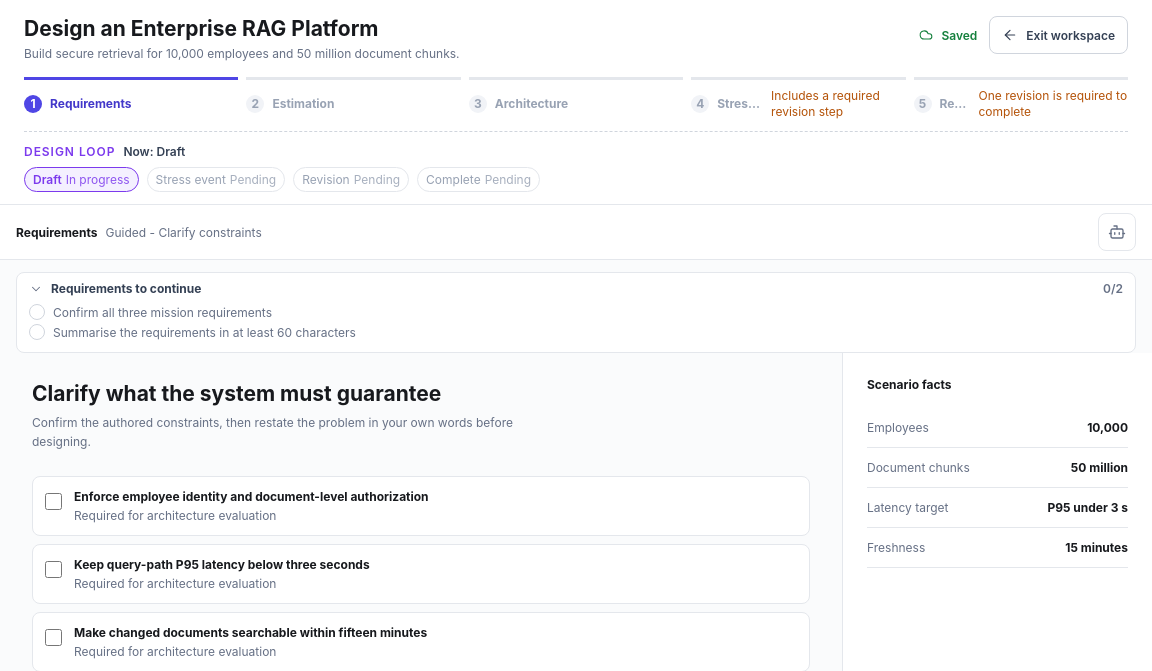
Test: MissionWorkspace gate checklist › collapses and expands via the toggle
Click the button "Requirements to continue 0/2": (126, 289) [17,273,1135,304]
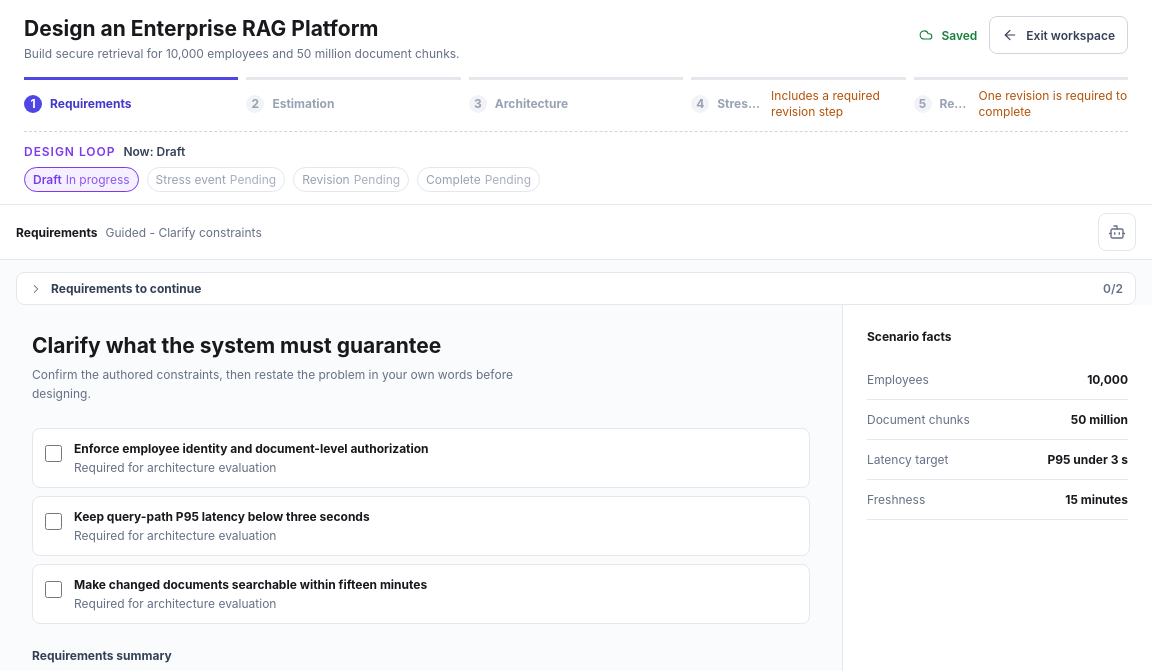
Expected: the list item "Confirm all three mission requirements" is gone
